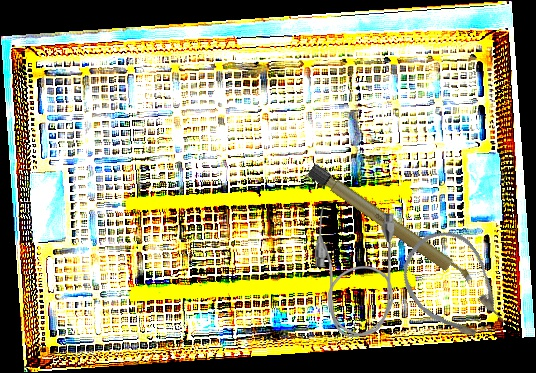Cannula: (387, 217, 522, 359), (313, 204, 397, 338)
Scalpel Handle: (305, 162, 478, 290)
